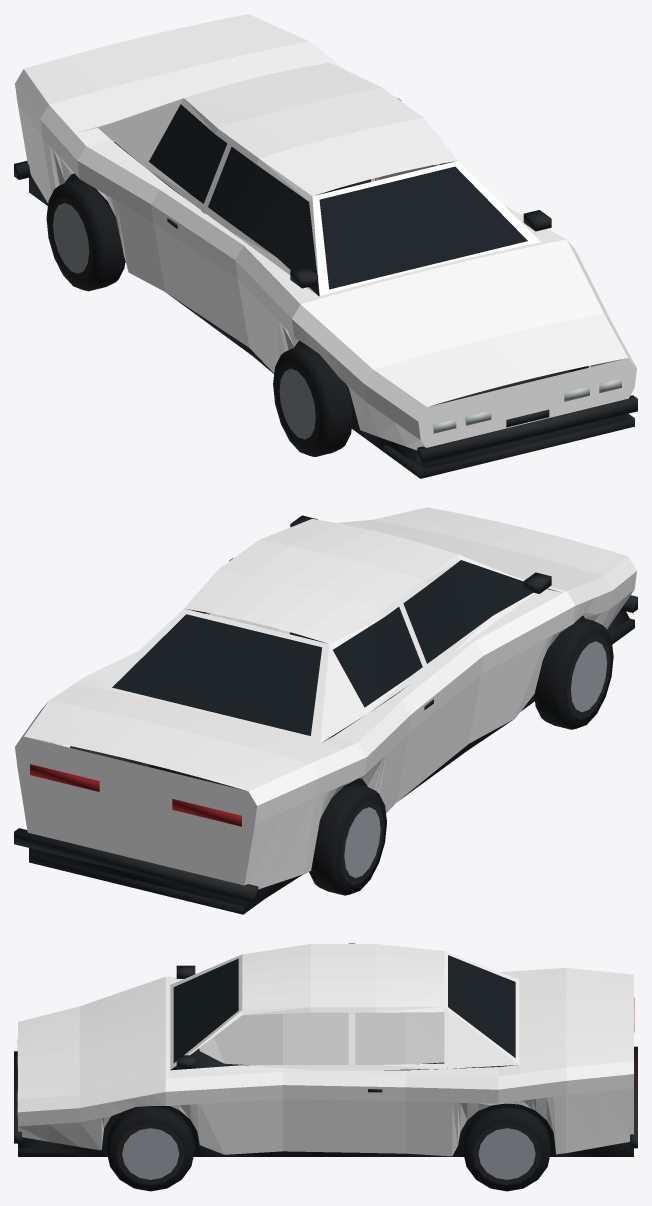
Rendered from hoshino_prumo.glb.
3 renders of one model, top to bottom at view 1: azimuth 30°, elevation 25°; view 2: azimuth 150°, elevation 25°; view 3: azimuth 270°, elevation 25°, orthographic. The views are drawn at different scales.
Visible parts, largest first — view 1: Body_Paint, Body_Details, Mount_FrontLeft_Wheel_Details, Mount_RearLeft_Wheel_Details; view 2: Body_Paint, Body_Details, Mount_FrontLeft_Wheel_Details, Mount_RearLeft_Wheel_Details; view 3: Body_Paint, Body_Details, Mount_FrontRight_Wheel_Details, Mount_RearRight_Wheel_Details.
Part boxes in pixels (x1,y1,x2,y2): Body_Paint: (15,14,636,450); Body_Details: (14,104,637,478); Mount_FrontLeft_Wheel_Details: (273,345,352,456); Mount_RearLeft_Wheel_Details: (46,179,125,291); Body_Paint: (15,507,636,889); Body_Details: (14,515,637,914); Mount_FrontLeft_Wheel_Details: (534,617,613,729); Mount_RearLeft_Wheel_Details: (309,783,386,895); Body_Paint: (18,943,633,1156); Body_Details: (14,955,637,1156); Mount_FrontRight_Wheel_Details: (106,1106,194,1191); Mount_RearRight_Wheel_Details: (463,1107,550,1191).
Size of the model in its own units: 1.83 by 1.26 by 4.32.
2 materials, 1 textured.
